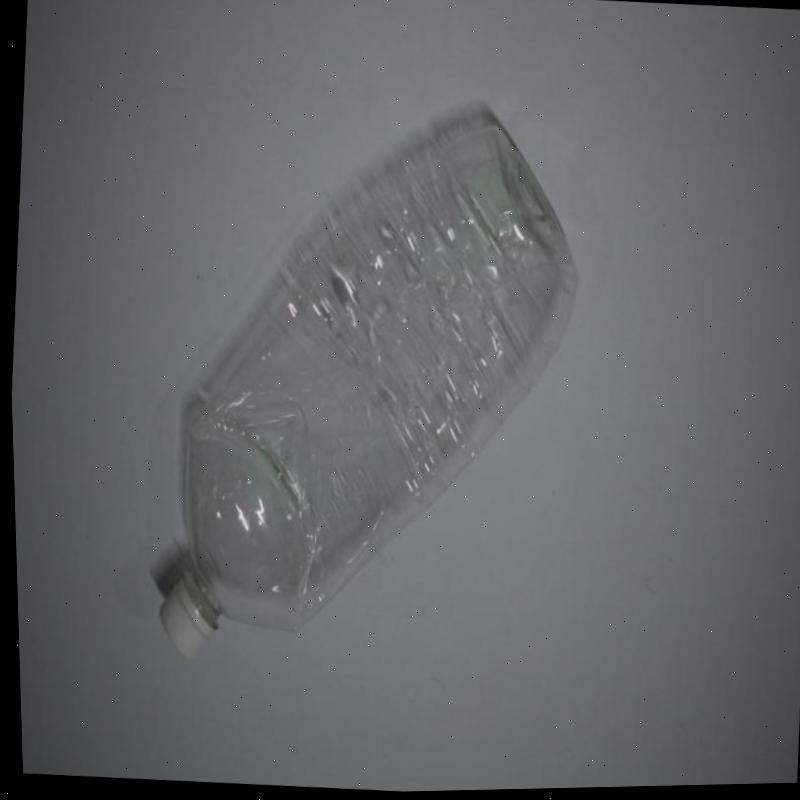botella: (135, 94, 593, 683)
